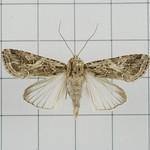Spodoptera litura: (1, 24, 150, 118)
